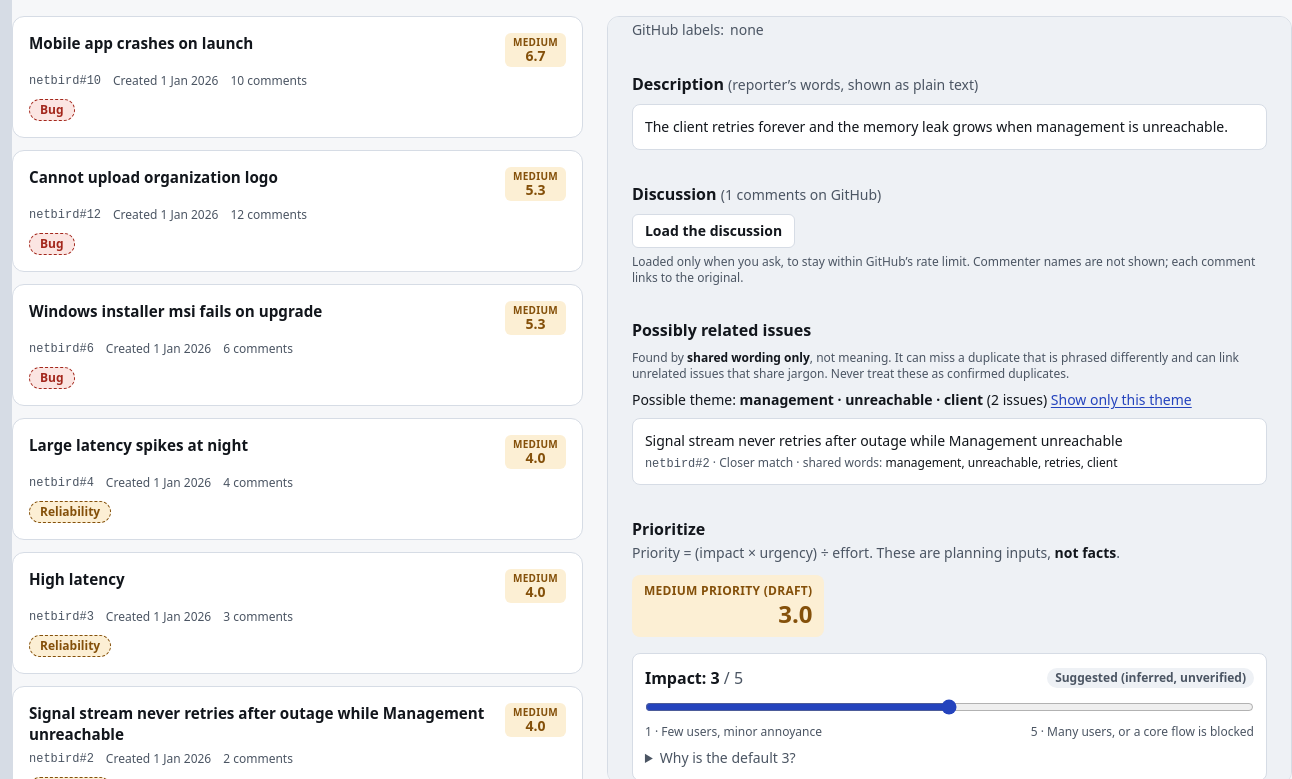
related issues › offers Show only this theme for an issue in a theme, and applies it
(page scrolled)
Step 1. Click the button "Show only this theme" → click(1121, 400), box [1051,390,1192,410]
(page scrolled)
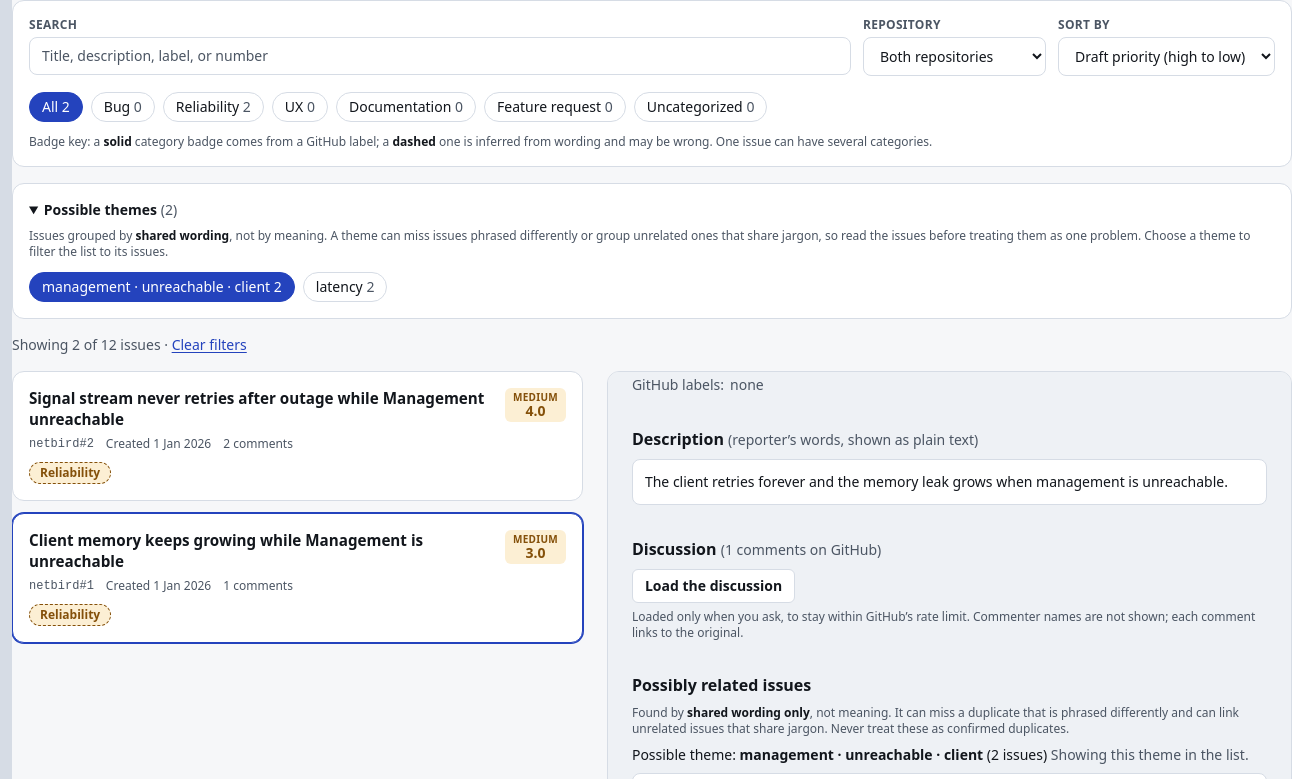
Now the text "Showing this theme in the list." is shown, box [1051,745,1249,764]
